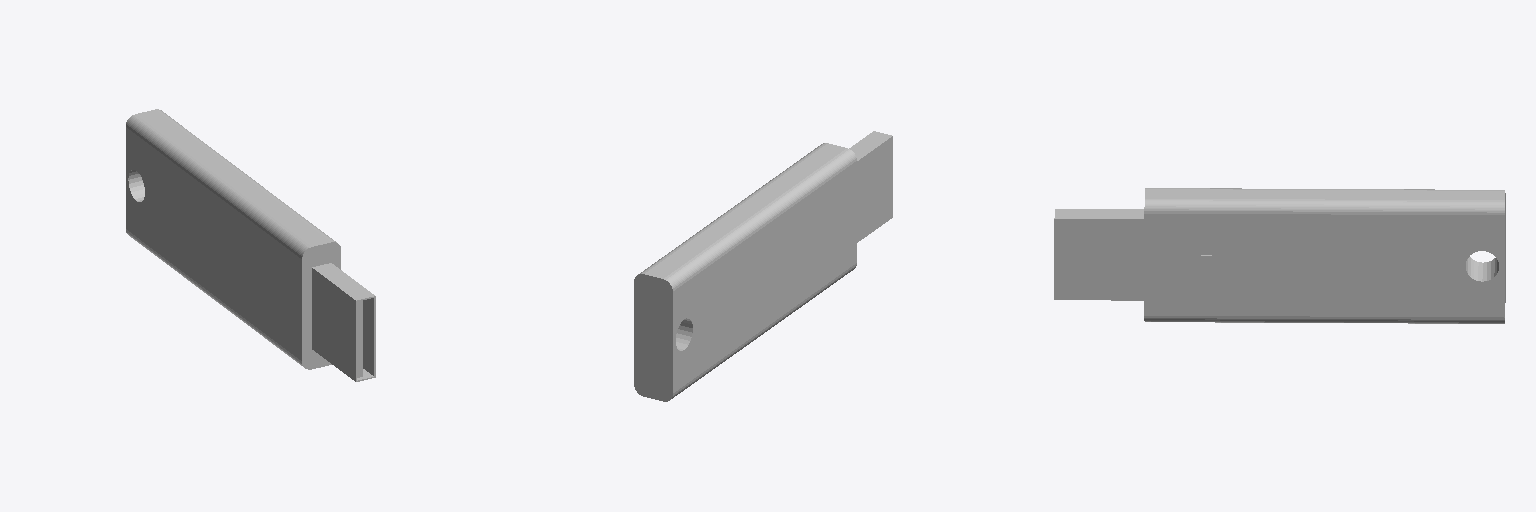
Rendered from Pendrive.obj.
3 renders of one model, left to right at view 1: azimuth 30°, elevation 25°; view 2: azimuth 150°, elevation 25°; view 3: azimuth 270°, elevation 25°, orthographic.
Parts seen in each view (by area): view 1: Mesh9 Component_3__14_1 Model; view 2: Mesh9 Component_3__14_1 Model; view 3: Mesh9 Component_3__14_1 Model, Mesh3 G_2_GB_1_1 Component_3__14_1 Model, Mesh2 G_2_GB_1_1 Component_3__14_1 Model.
Part boxes in pixels (bbox=[...]): Mesh9 Component_3__14_1 Model: bbox=[126, 109, 375, 381]; Mesh9 Component_3__14_1 Model: bbox=[634, 131, 892, 401]; Mesh9 Component_3__14_1 Model: bbox=[1054, 188, 1505, 323]; Mesh3 G_2_GB_1_1 Component_3__14_1 Model: bbox=[1404, 248, 1435, 286]; Mesh2 G_2_GB_1_1 Component_3__14_1 Model: bbox=[1354, 247, 1394, 287].
Bounding box in the file's own units: 0.18 × 0.4919 × 1.64.